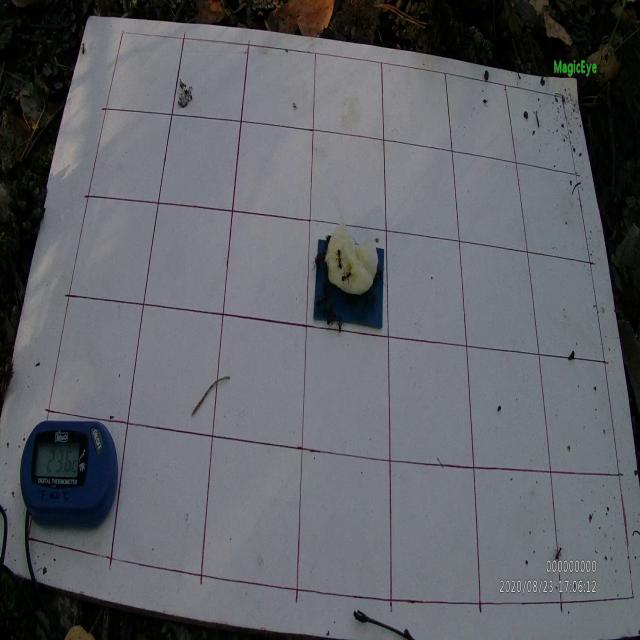Ant: (334, 242, 346, 270), (553, 540, 565, 560), (326, 310, 335, 329), (340, 269, 352, 283), (316, 294, 328, 307), (336, 314, 344, 333), (80, 41, 87, 60)
